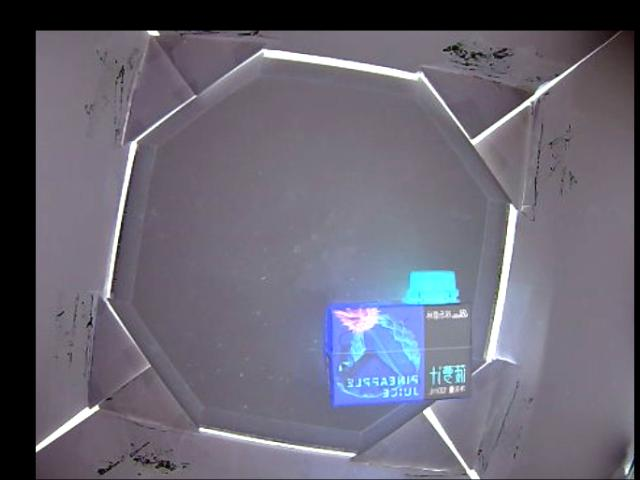Bottle: (326, 269, 472, 401)
